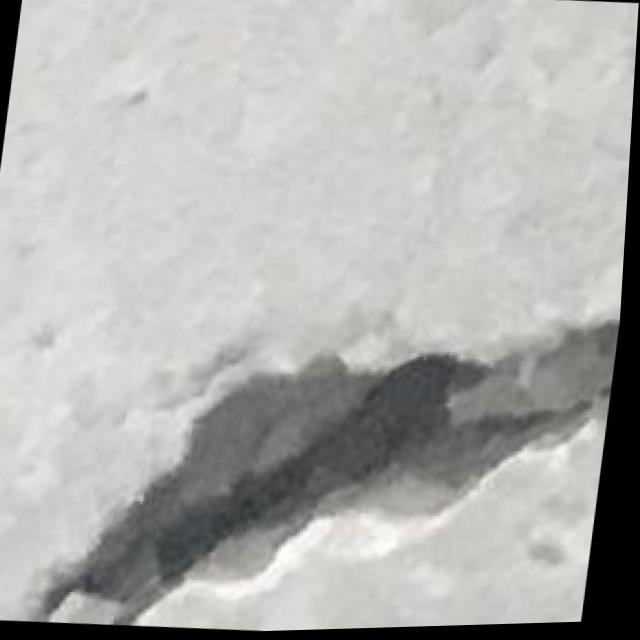Crack: (37, 287, 625, 638)
